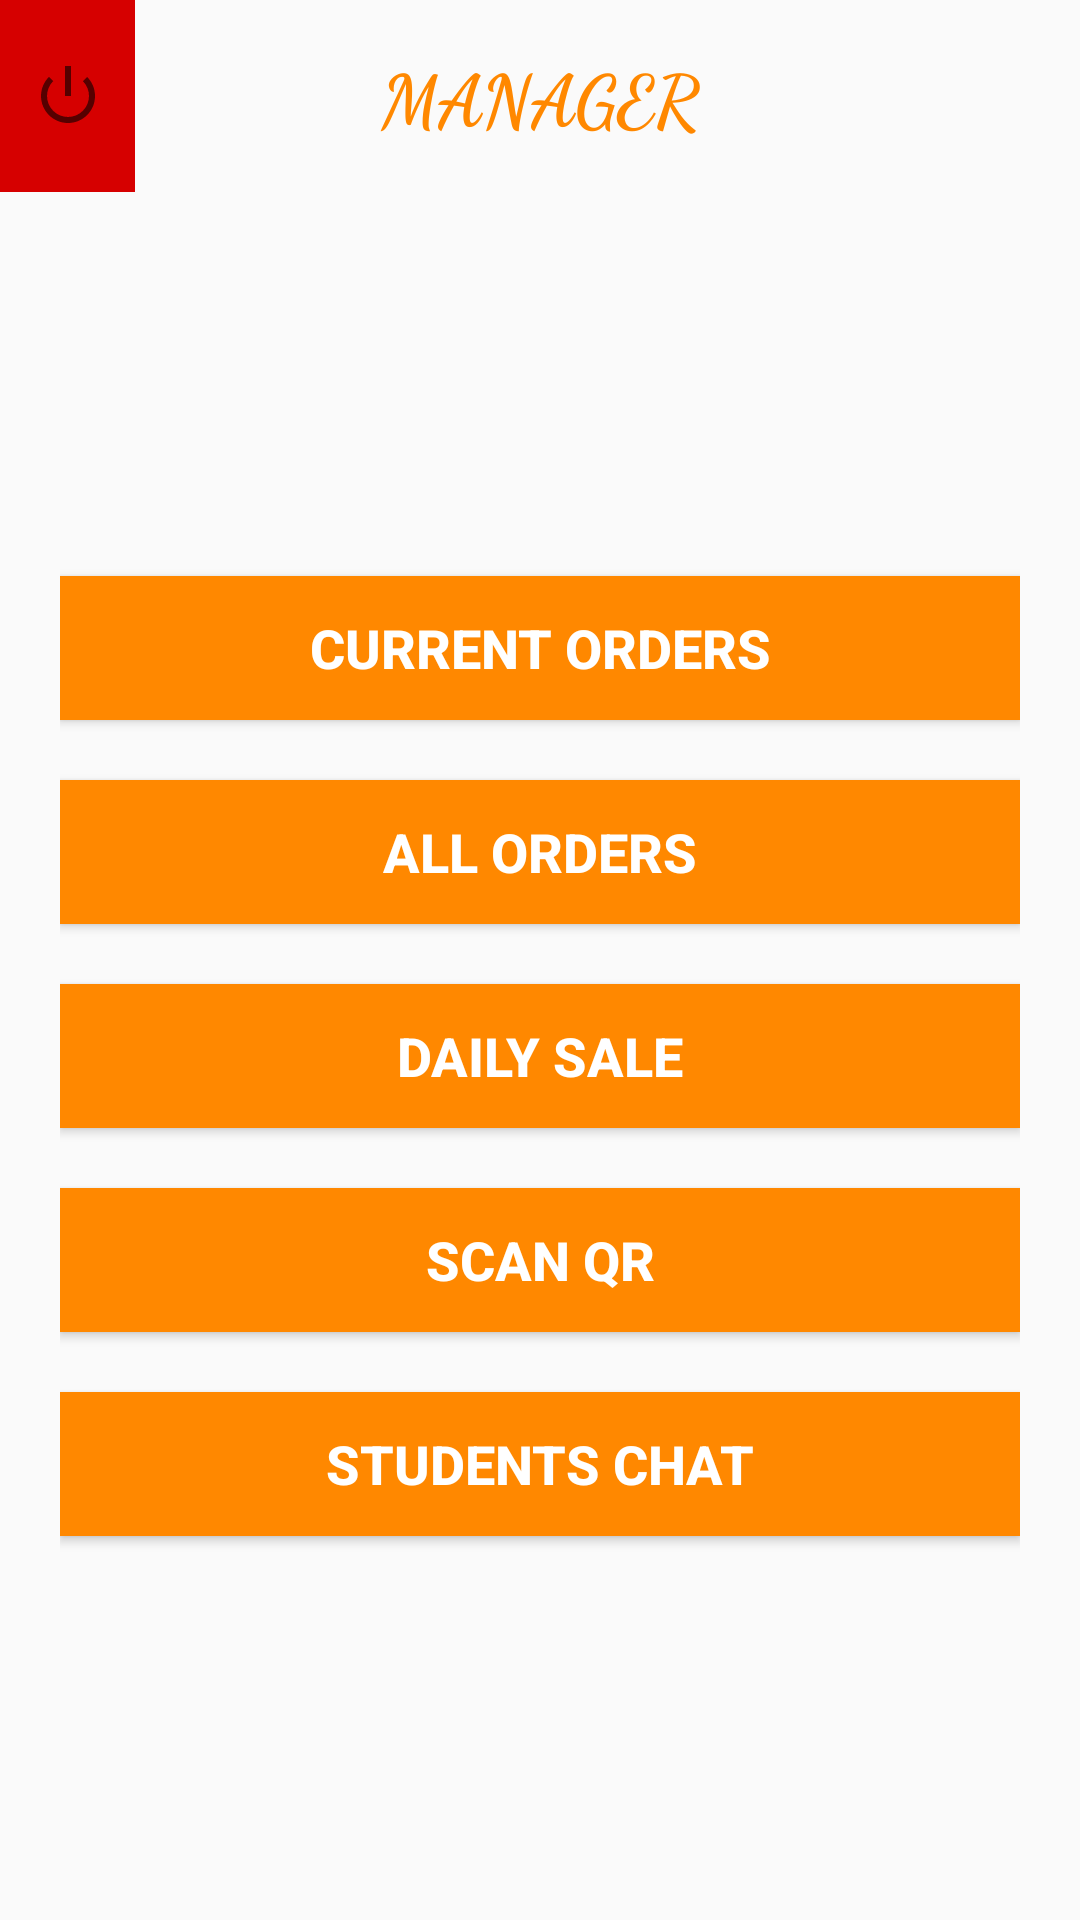

Icons on this 1080 × 1920 Android screen, each with the point to tap as [x,y]:
lock power off: [67,96]
